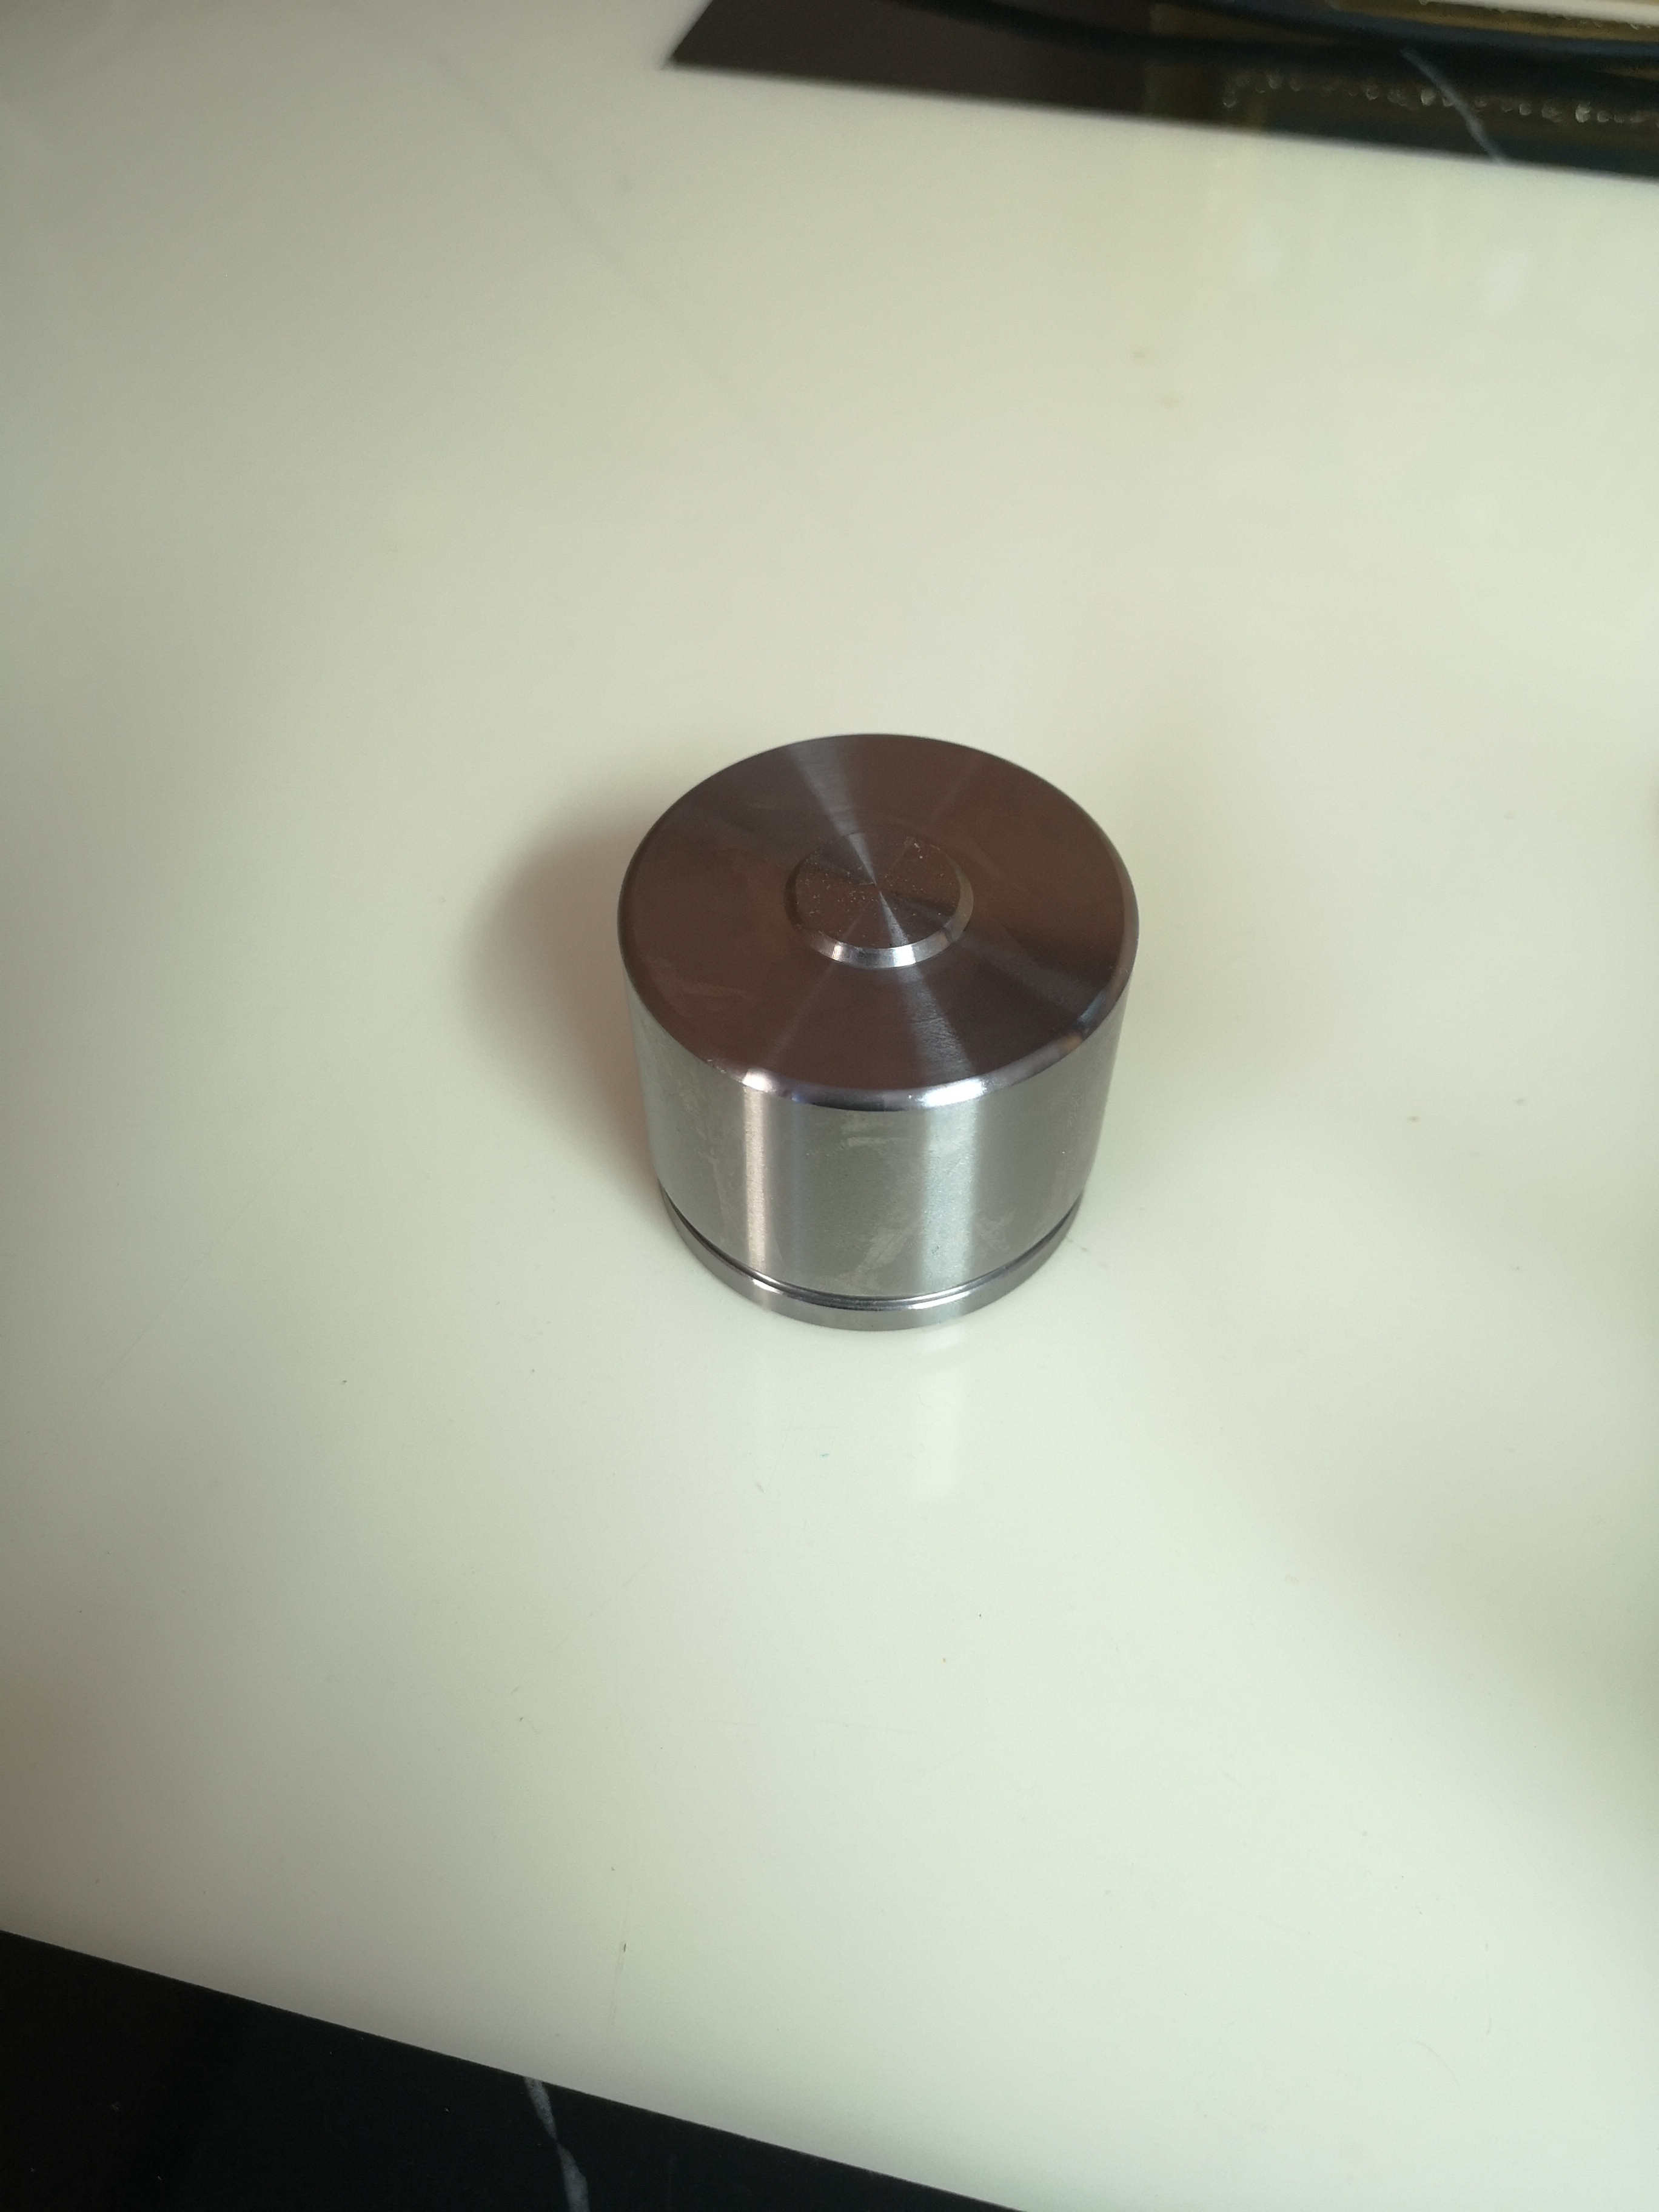ลูกสูบดิสเบรค: (568, 728, 1143, 1332)
